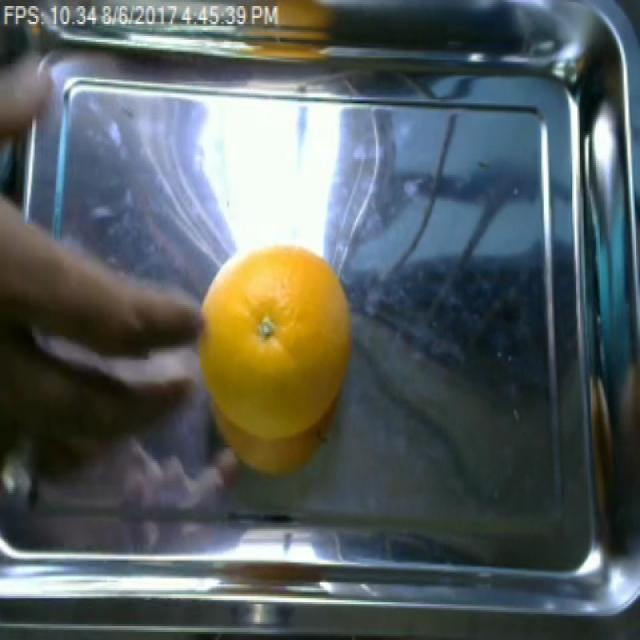Fruit: (191, 241, 360, 477), (258, 0, 342, 34)
